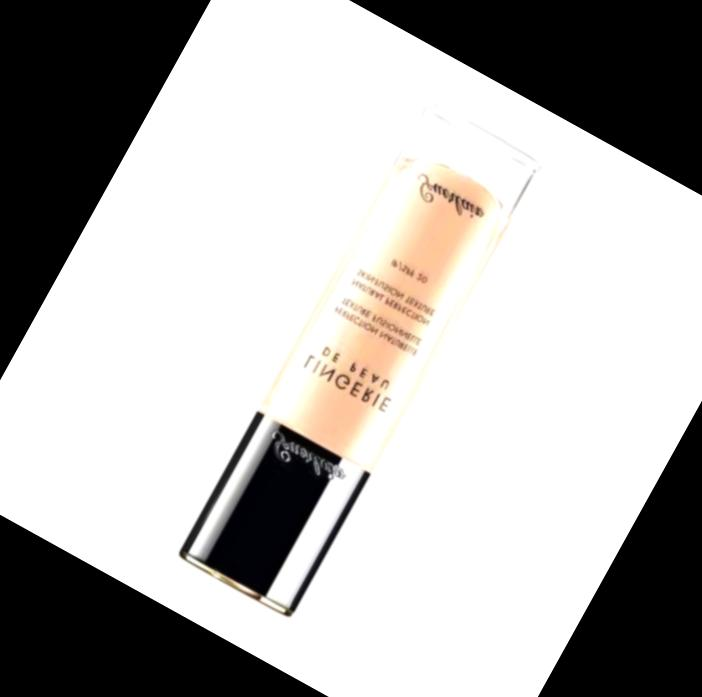cosmetic: (175, 102, 545, 623)
